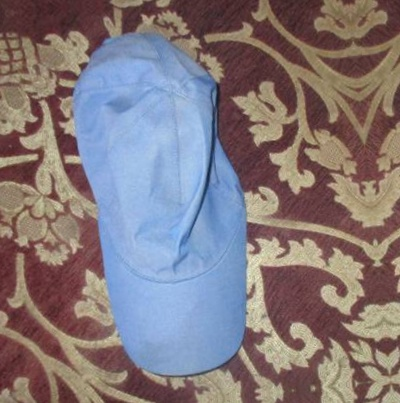Hat: (24, 3, 275, 387)
